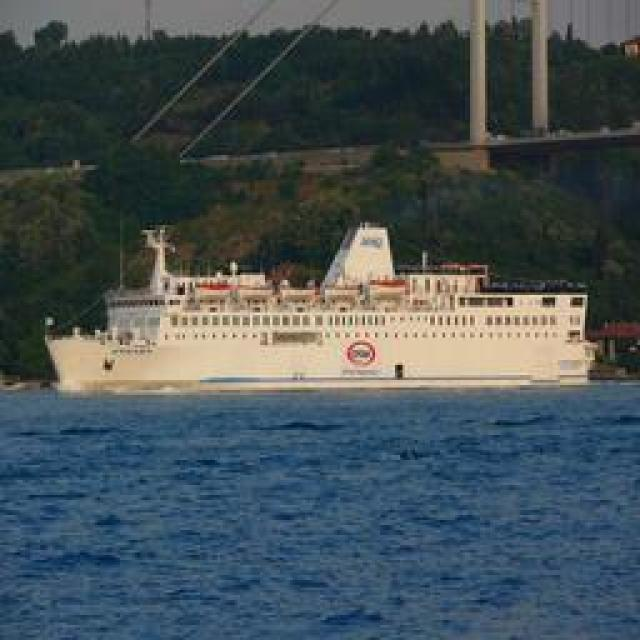CIV_Ship: (50, 232, 588, 396)
